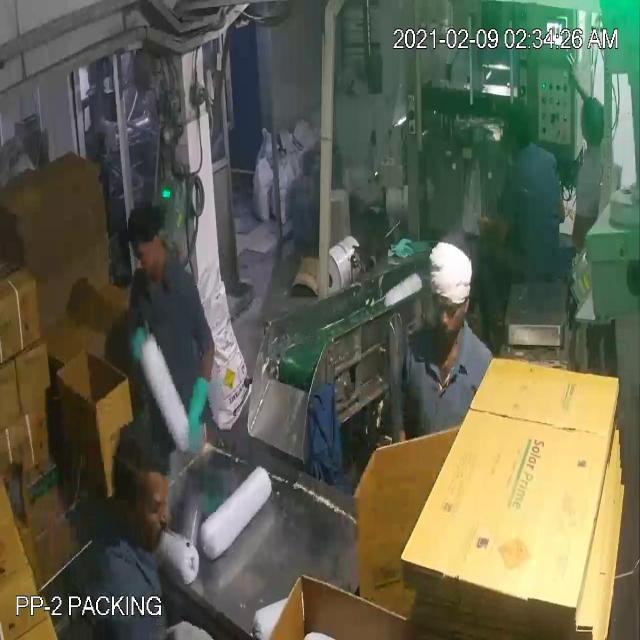gloves: (168, 368, 214, 465), (122, 315, 170, 377)
